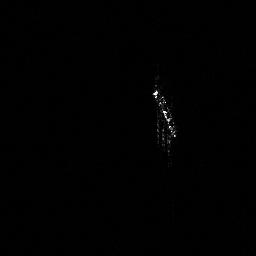ship: (148, 80, 182, 160)
